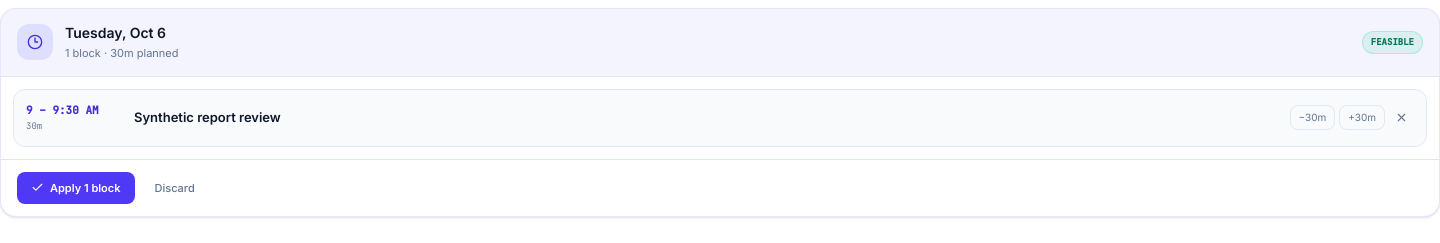
Test: P00.2 existing calendar preview baseline › P00.2-F03 removing preview work saves the adjustment without creating calendar events
What coordinates should you click on to do the following:
click the button named "Remove Synthetic report review from plan"
I would click on:
 (1402, 118)
Its box is [1389,105,1414,130].
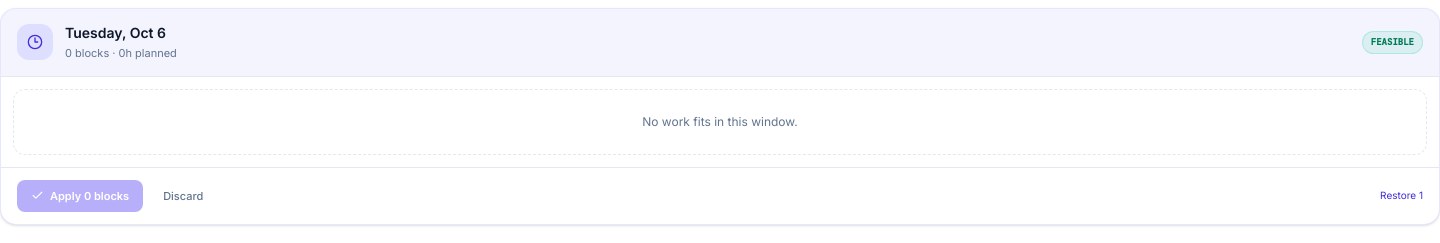
Expected: the button "Apply 0 blocks" is disabled, [17,180,143,212]
